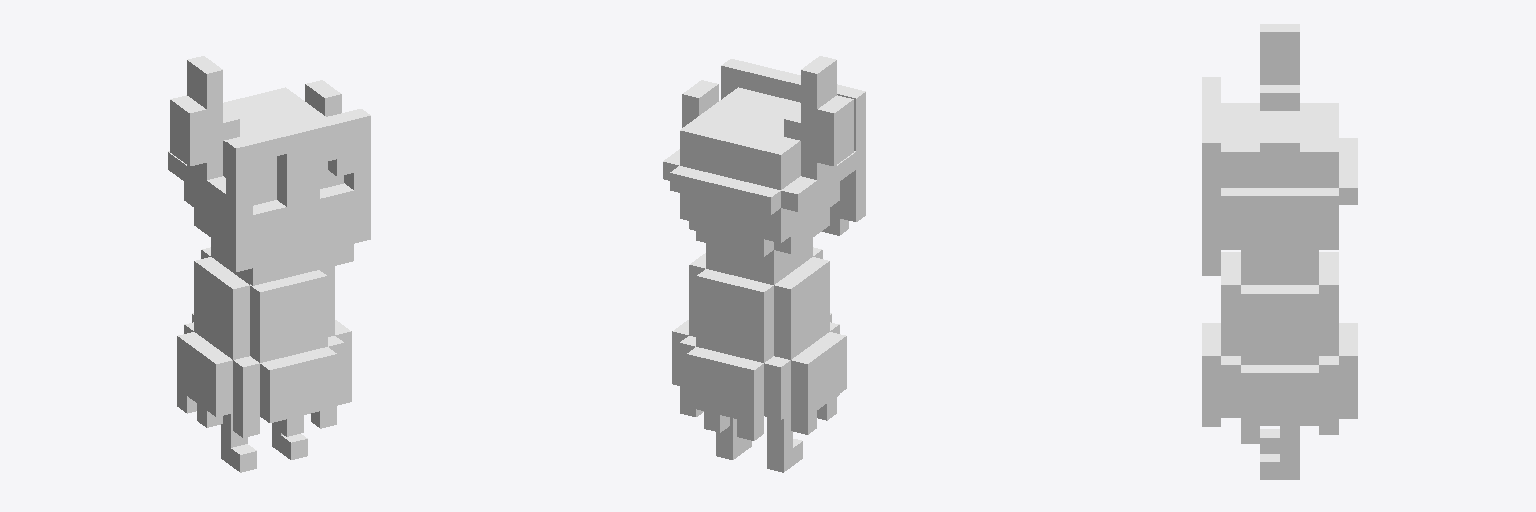
File: Voxels-1.obj
3 renders of one model, left to right at view 1: azimuth 30°, elevation 25°; view 2: azimuth 150°, elevation 25°; view 3: azimuth 270°, elevation 25°, orthographic.
Visible parts, largest first — view 1: Voxels-1; view 2: Voxels-1; view 3: Voxels-1.
Part boxes in pixels (x1,y1,x2,y2): Voxels-1: (168,56,370,472); Voxels-1: (663,56,865,472); Voxels-1: (1202,24,1357,479).
Bounding box in the file's own units: 9 × 23 × 8.